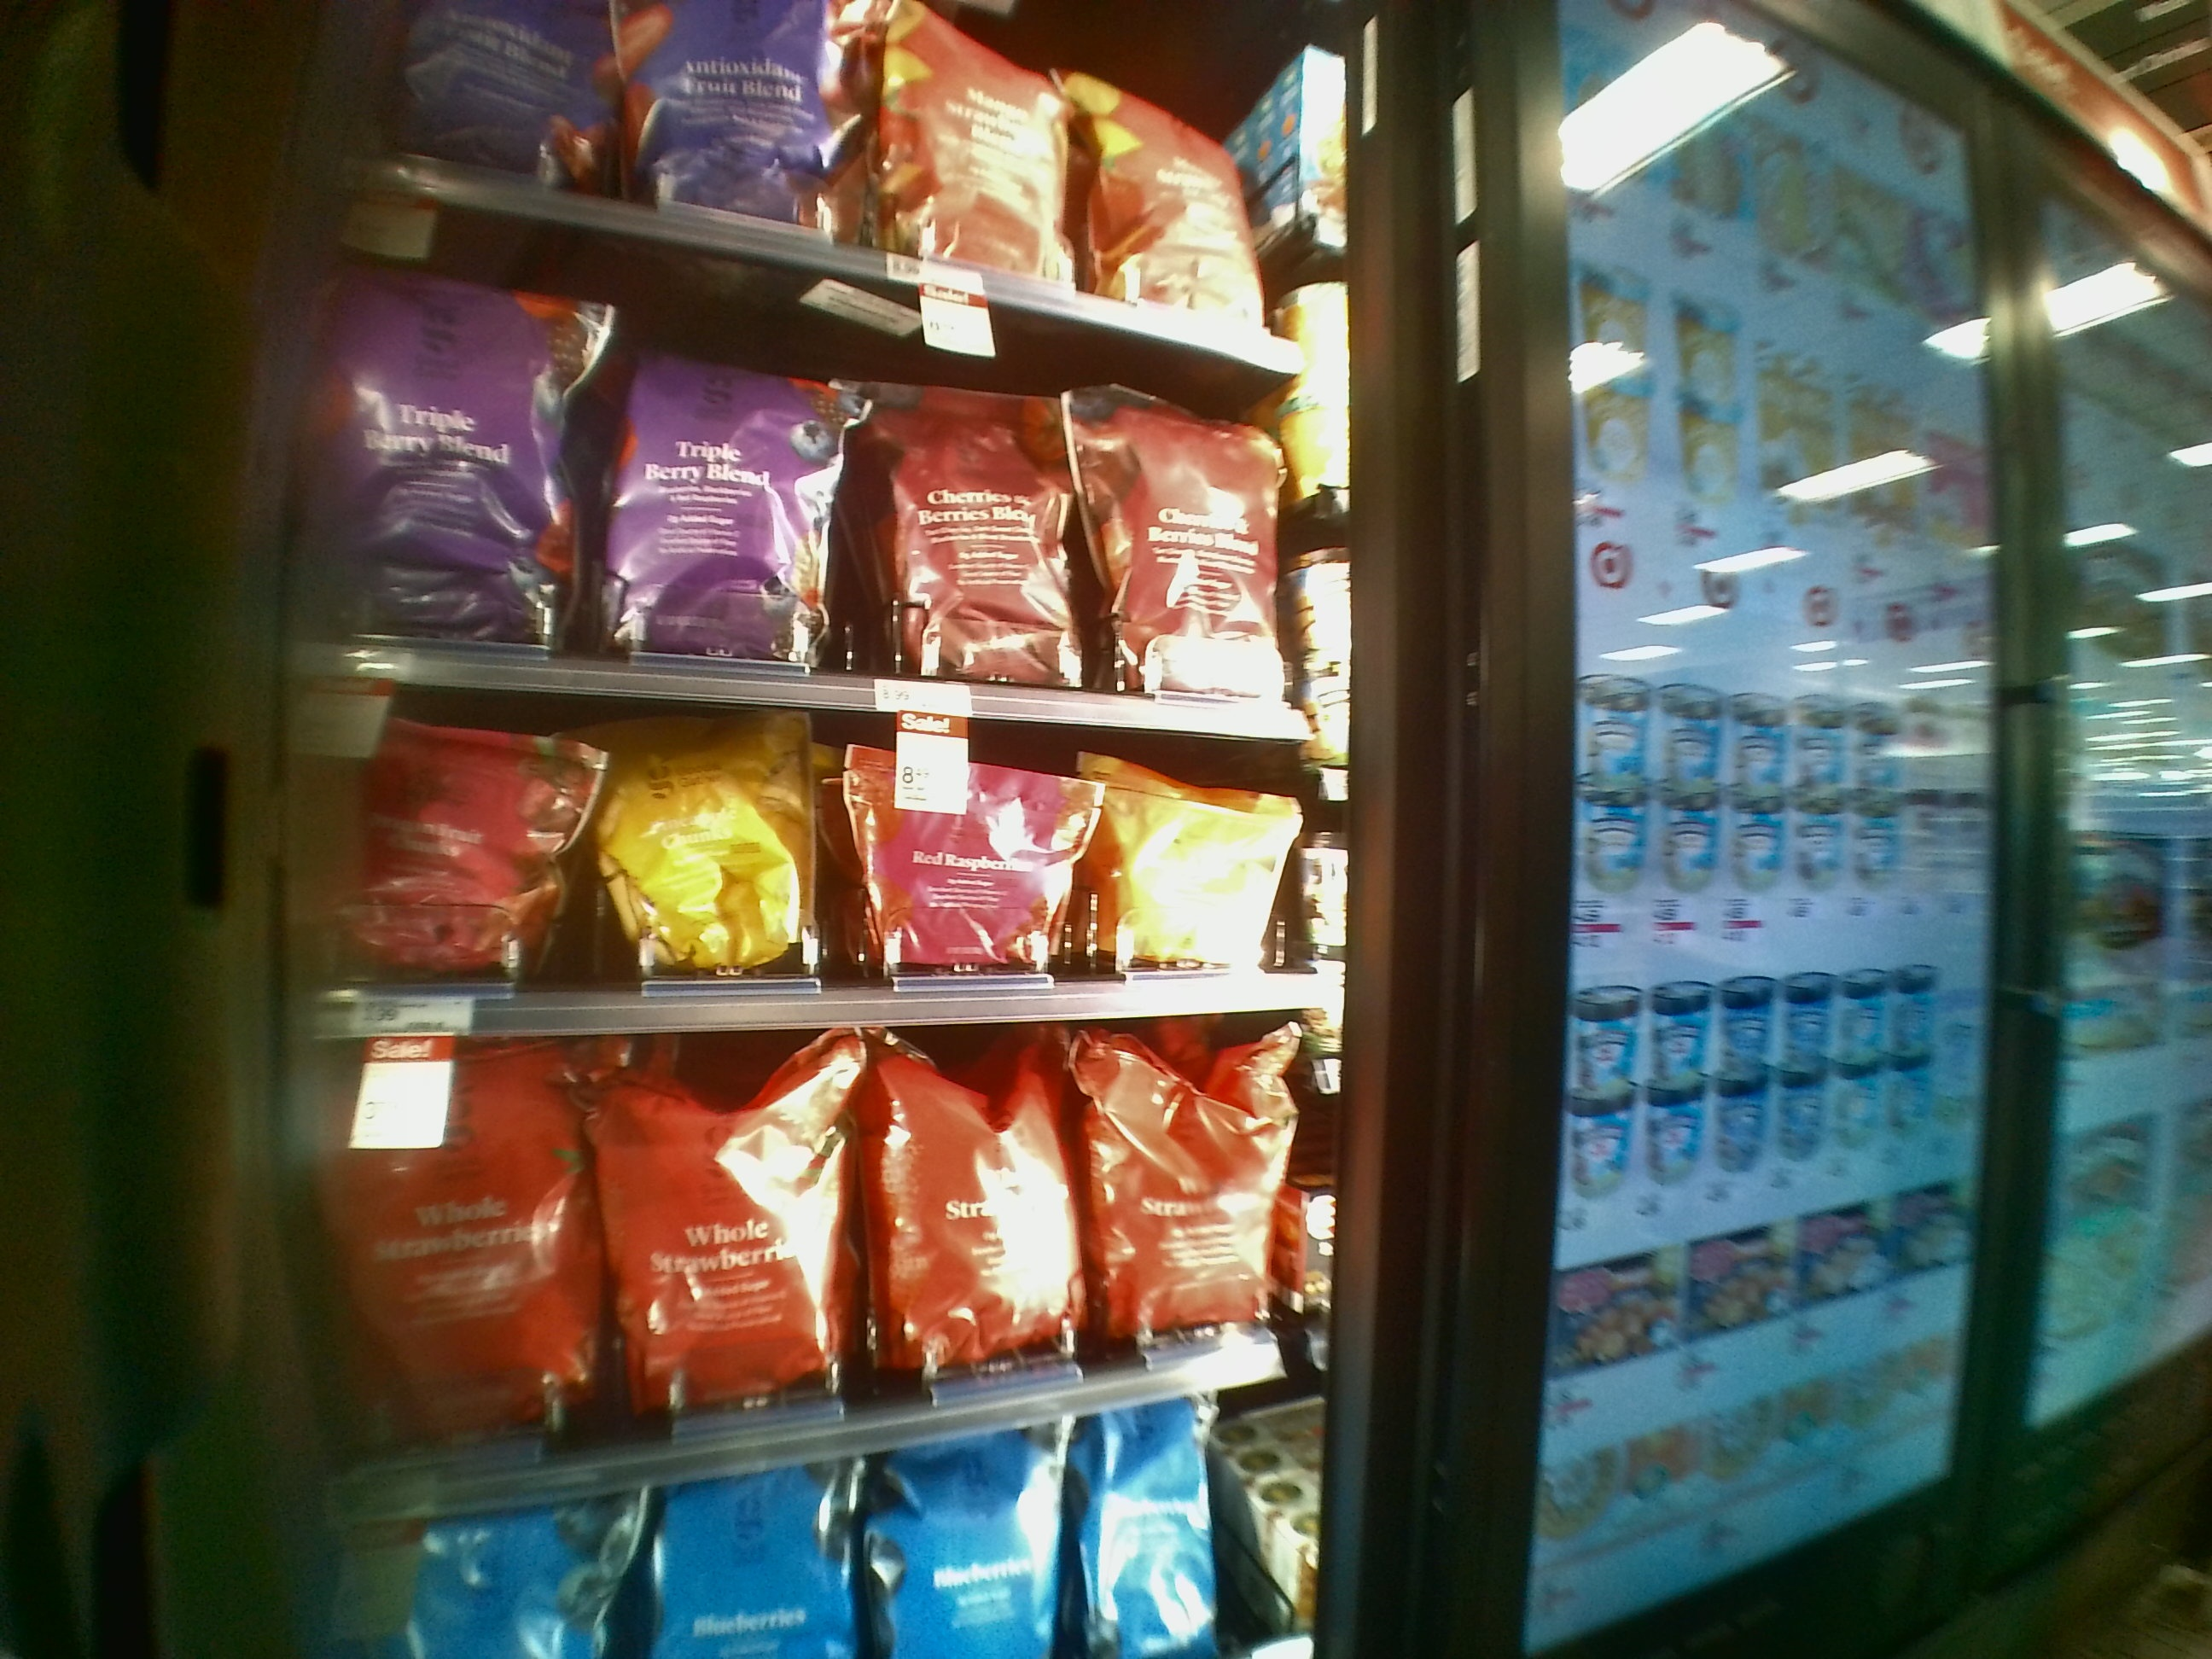shelf: (298, 284, 1303, 713), (319, 1023, 1312, 1432), (315, 701, 1305, 1030)
